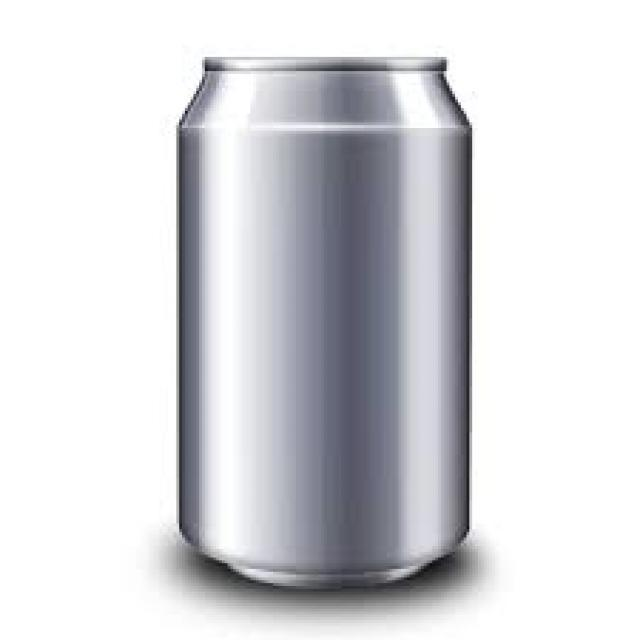recyclable: (178, 56, 470, 590)
